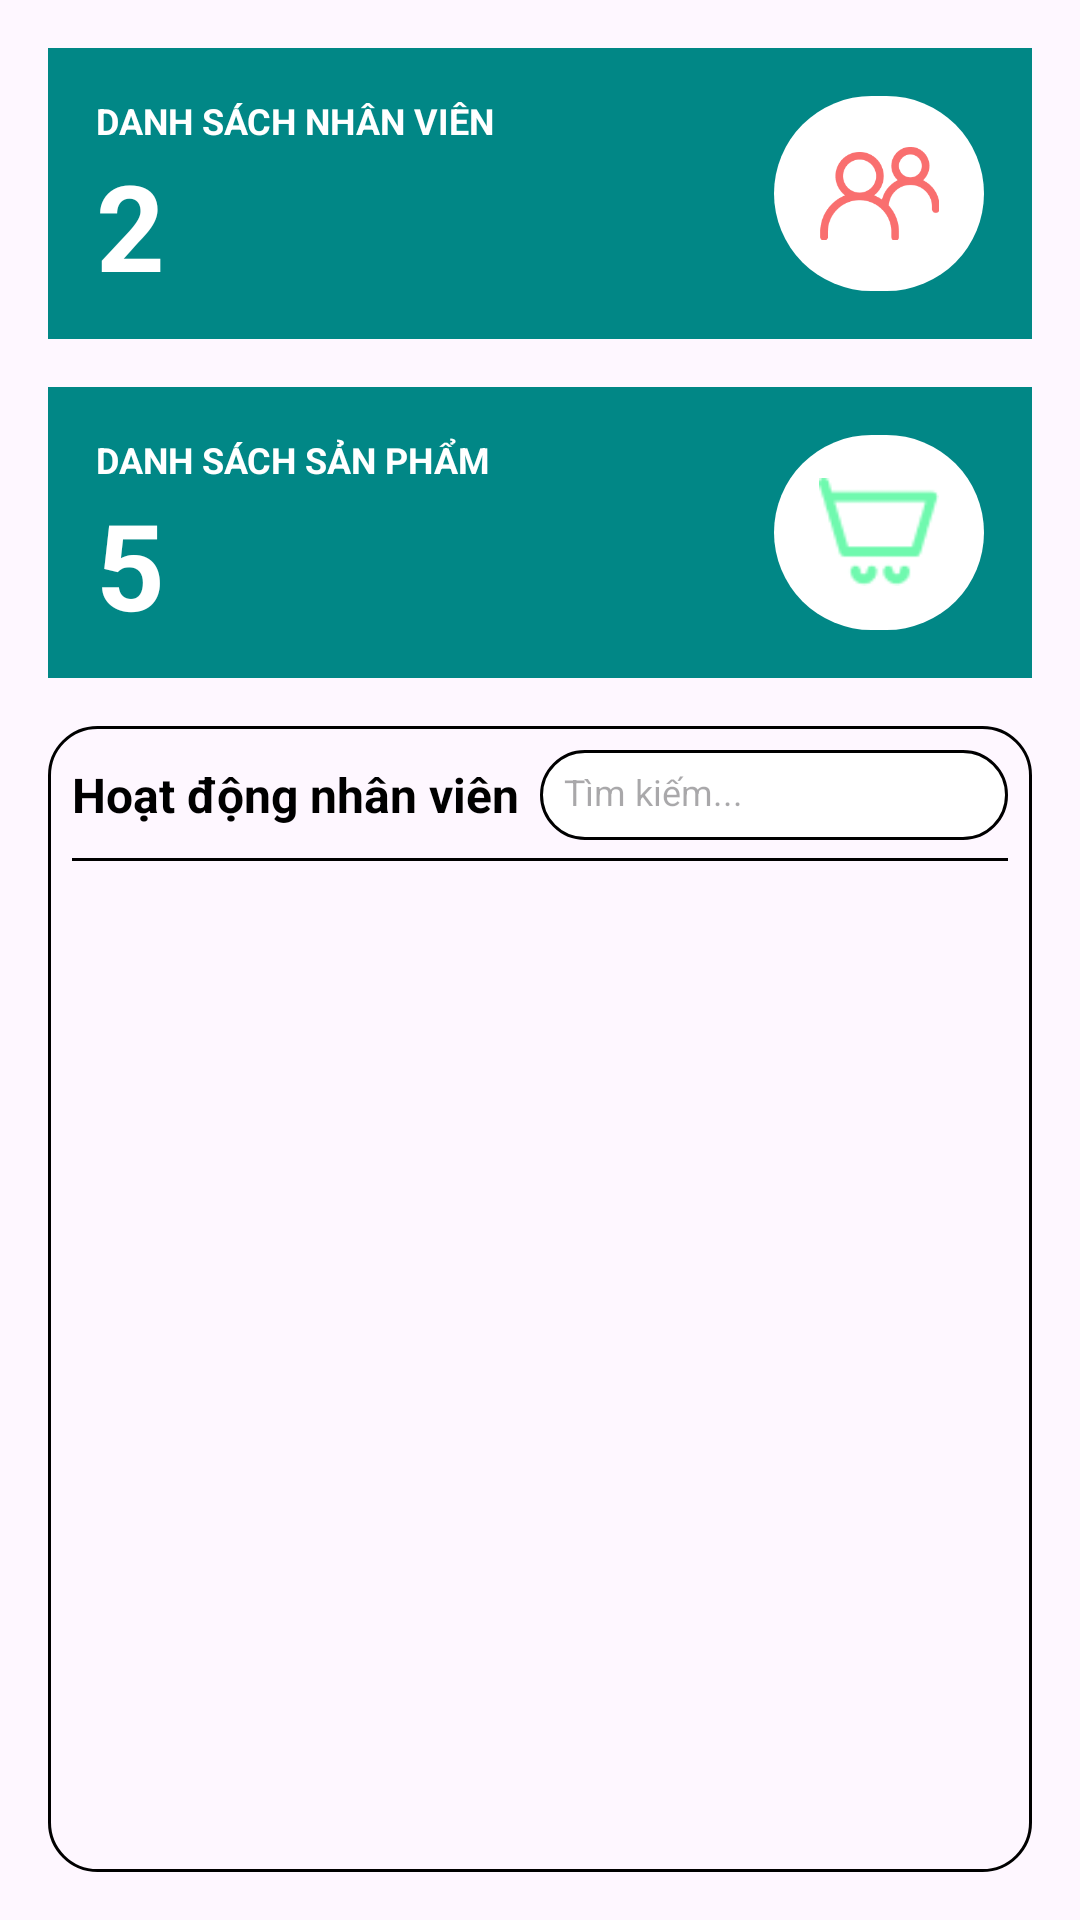

Icon bounding boxes for this 1080*1920 phone screenshot, format (x1, y1, x2, y2):
cart: (819, 478, 939, 585)
staff: (820, 147, 939, 240)
